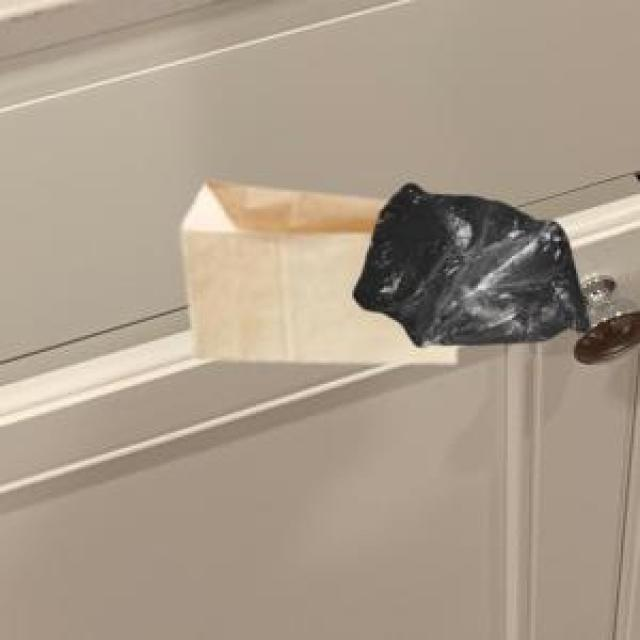paper: (177, 179, 452, 358)
